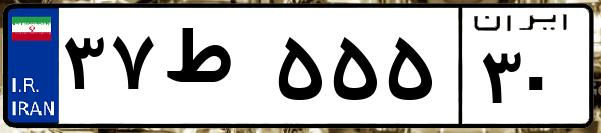0: (525, 38, 570, 115)
3: (57, 26, 110, 100), (475, 38, 525, 113)
5: (270, 28, 330, 110), (385, 28, 445, 110), (330, 28, 385, 110)
7: (110, 28, 158, 98)
ط: (158, 20, 270, 120)
